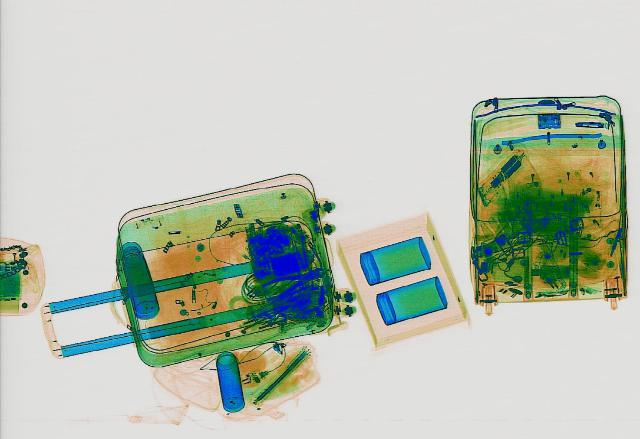Pliers: (252, 262, 330, 302)
